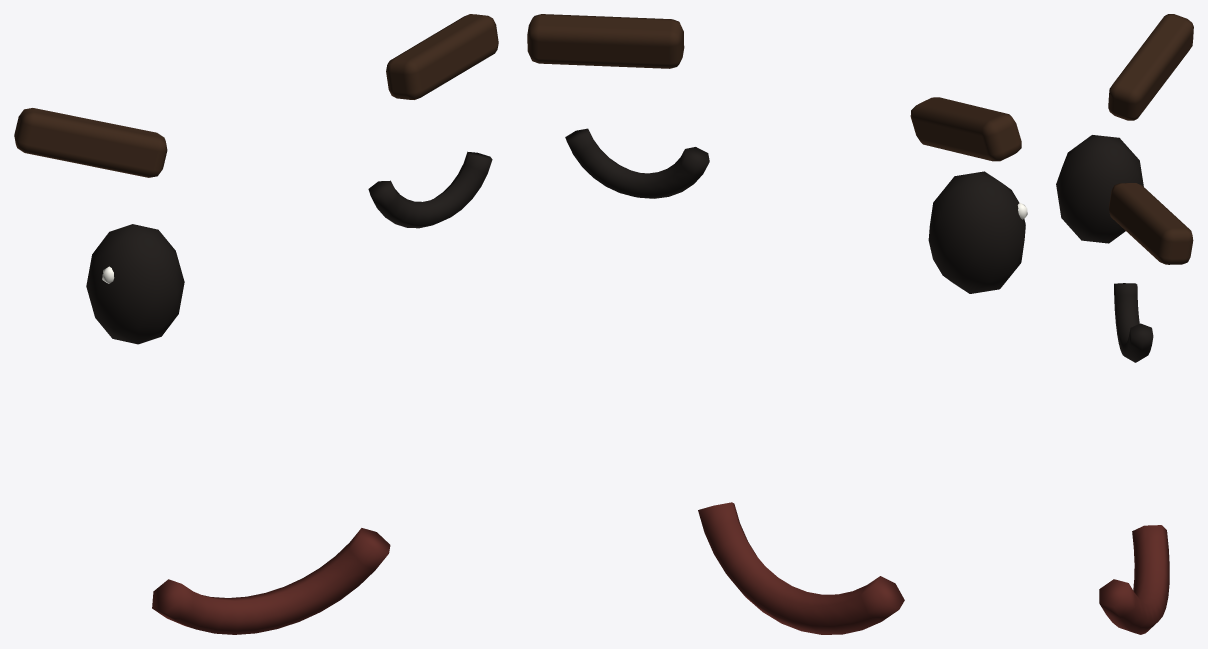
File: 10-wink.glb
3 views of the same model, side by side, from view 1: azimuth 30°, elevation 25°; view 2: azimuth 150°, elevation 25°; view 3: azimuth 270°, elevation 25° (orthographic). The views are drawn at different scales.
Parts seen in each view (by area): view 1: Face10_Mouth, Face10_Eye-1, Face10_Brow-1, Face10_Brow1, Face10_EyeWink1; view 2: Face10_Mouth, Face10_Eye-1, Face10_Brow1, Face10_Brow-1, Face10_EyeWink1; view 3: Face10_Eye-1, Face10_Mouth, Face10_Brow-1, Face10_Brow1, Face10_EyeWink1.
Boxes of the visible parts, bbox=[...] form: Face10_Mouth: bbox=[152, 528, 390, 634]; Face10_Eye-1: bbox=[86, 224, 184, 344]; Face10_Brow-1: bbox=[14, 108, 167, 177]; Face10_Brow1: bbox=[386, 14, 498, 99]; Face10_EyeWink1: bbox=[368, 151, 492, 228]; Face10_Mouth: bbox=[698, 502, 904, 634]; Face10_Eye-1: bbox=[928, 171, 1025, 293]; Face10_Brow1: bbox=[527, 14, 684, 68]; Face10_Brow-1: bbox=[910, 97, 1021, 161]; Face10_EyeWink1: bbox=[565, 128, 709, 198]; Face10_Eye-1: bbox=[1056, 135, 1143, 243]; Face10_Mouth: bbox=[1099, 525, 1169, 634]; Face10_Brow-1: bbox=[1108, 14, 1193, 120]; Face10_Brow1: bbox=[1109, 183, 1193, 264]; Face10_EyeWink1: bbox=[1114, 283, 1153, 362].
Bounding box in the file's own units: 0.2795 × 0.3138 × 0.0766.
